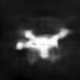plane: (15, 26, 74, 64)
